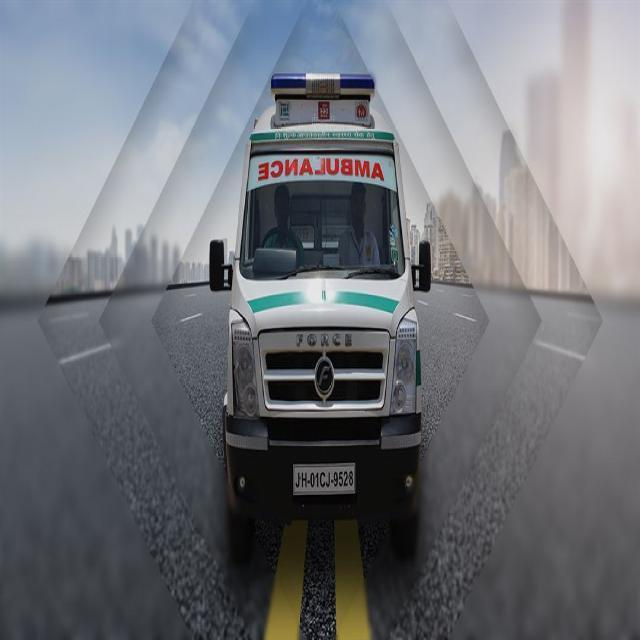Ambulance: (14, 273, 492, 638), (205, 71, 434, 525), (333, 181, 384, 270), (256, 182, 308, 255)
